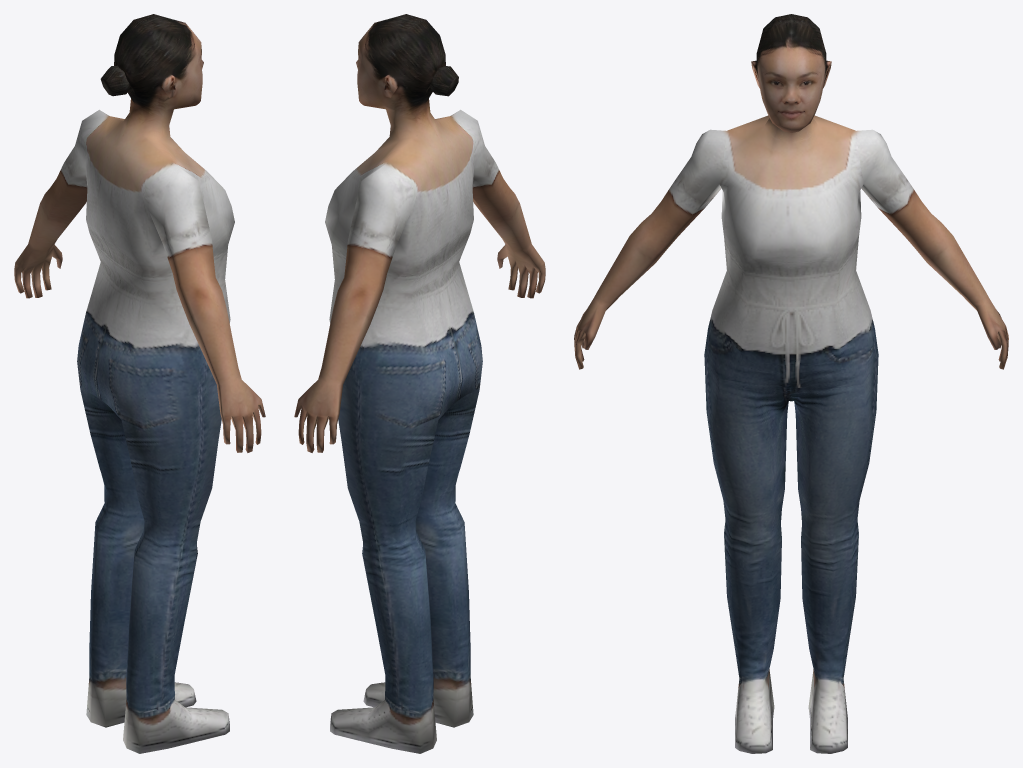
The model's file is Character_50_Female.fbx.
3 renders of one model, left to right at view 1: azimuth 30°, elevation 25°; view 2: azimuth 150°, elevation 25°; view 3: azimuth 270°, elevation 25°, orthographic.
Parts seen in each view (by area): view 1: Character_50_Female; view 2: Character_50_Female; view 3: Character_50_Female.
Boxes of the visible parts, <box> form: Character_50_Female: <box>14,14,265,753</box>; Character_50_Female: <box>294,14,545,753</box>; Character_50_Female: <box>574,14,1008,753</box>.
Size of the model in its own units: 0.3172 by 1.78 by 0.9933.
